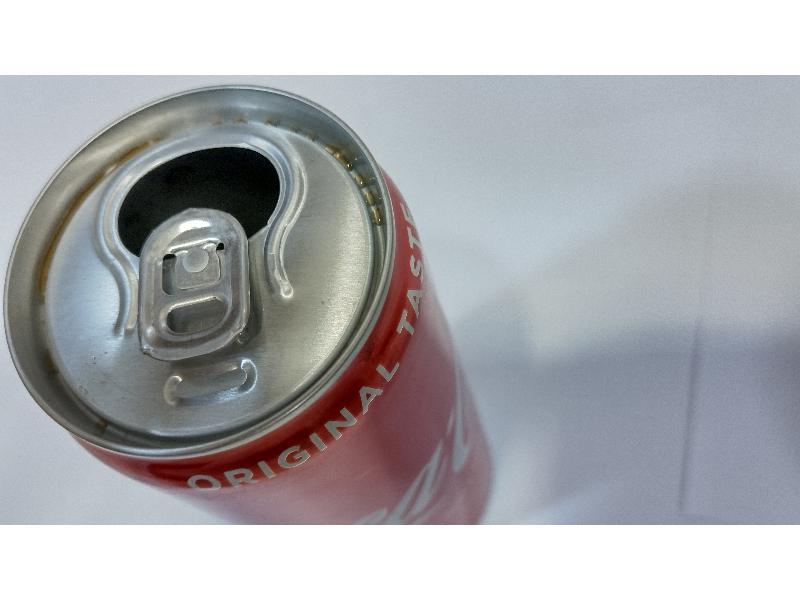can: (6, 73, 512, 522)
